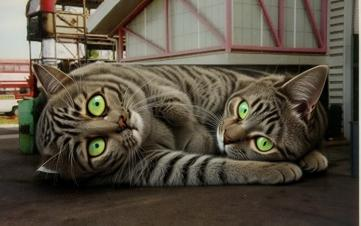cat: (33, 64, 328, 186)
